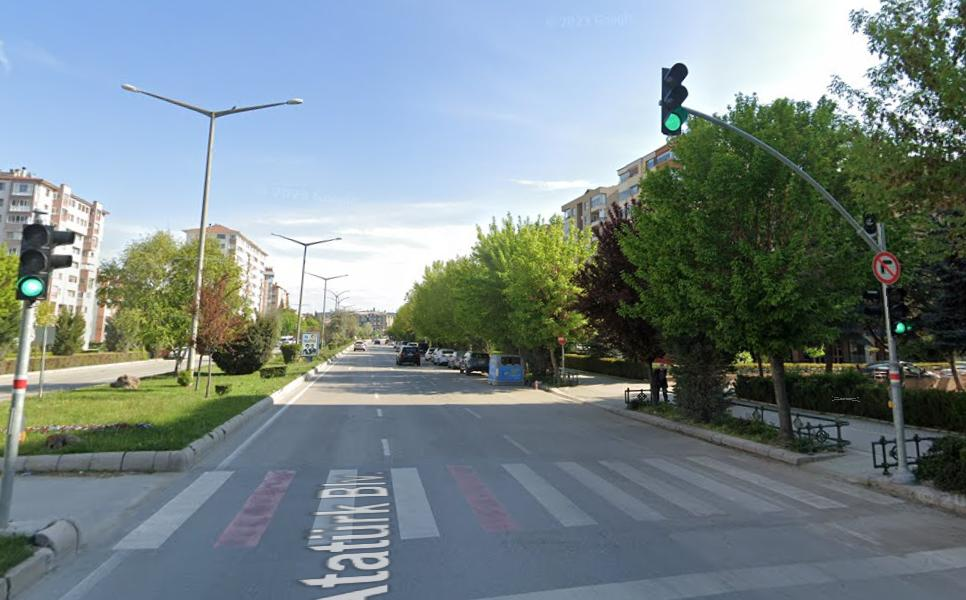greenlight: (19, 222, 48, 300), (660, 63, 687, 133)
rightturnsareforbidden: (874, 253, 902, 285)
